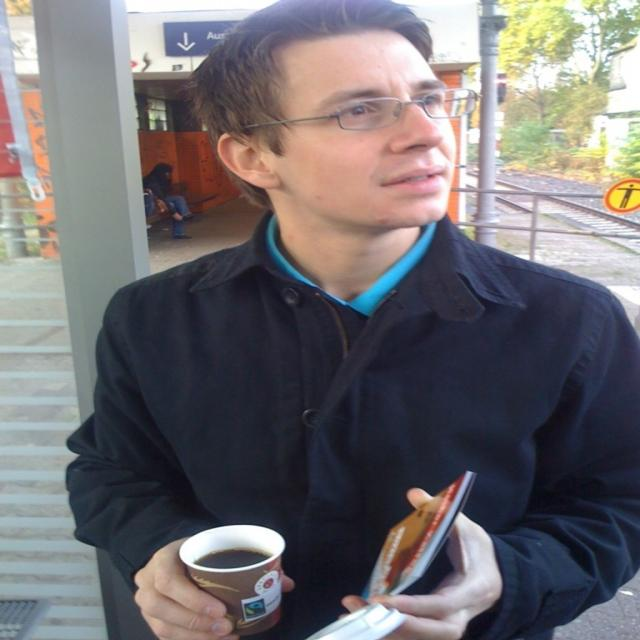Coffee: (192, 545, 274, 567)
Tea: (196, 549, 266, 572)
